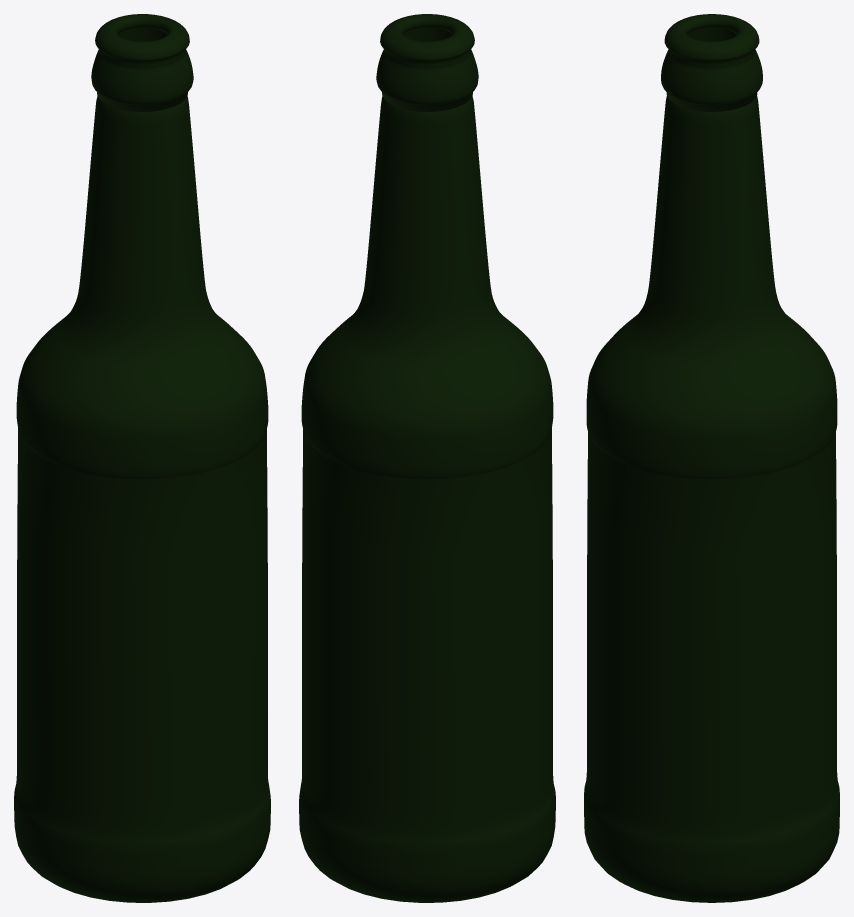
File: beer-bottle.fbx
3 renders of one model, left to right at view 1: azimuth 30°, elevation 25°; view 2: azimuth 150°, elevation 25°; view 3: azimuth 270°, elevation 25°, orthographic.
Visible parts, largest first — view 1: Bottle_Mesh; view 2: Bottle_Mesh; view 3: Bottle_Mesh.
Boxes of the visible parts, x1,y1,x2,y2 form: Bottle_Mesh: (14,14,270,902); Bottle_Mesh: (299,14,555,902); Bottle_Mesh: (584,14,839,902).
Size of the model in its own units: 2.59 by 9.34 by 2.58.
